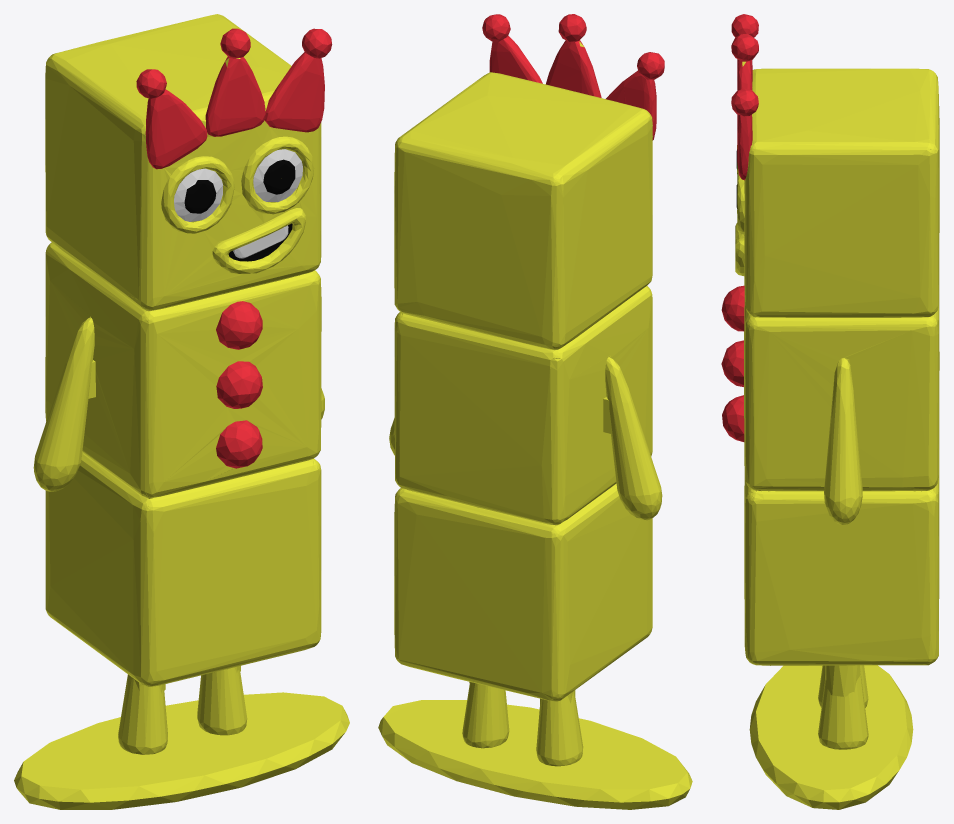
The model's file is NumberBlock3.fbx.
3 views of the same model, side by side, from view 1: azimuth 30°, elevation 25°; view 2: azimuth 150°, elevation 25°; view 3: azimuth 270°, elevation 25° (orthographic). The views are drawn at different scales.
Parts seen in each view (by area): view 1: NumberBlock3; view 2: NumberBlock3; view 3: NumberBlock3.
Part boxes in pixels (x1=…): NumberBlock3: x1=14, y1=14, x2=349, y2=809; NumberBlock3: x1=378, y1=14, x2=692, y2=809; NumberBlock3: x1=721, y1=14, x2=939, y2=809.
Size of the model in its own units: 352 by 797 by 223.
